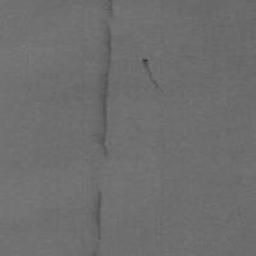Inclusion: (97, 23, 115, 161), (90, 187, 104, 256), (141, 56, 165, 93), (105, 0, 116, 18)
